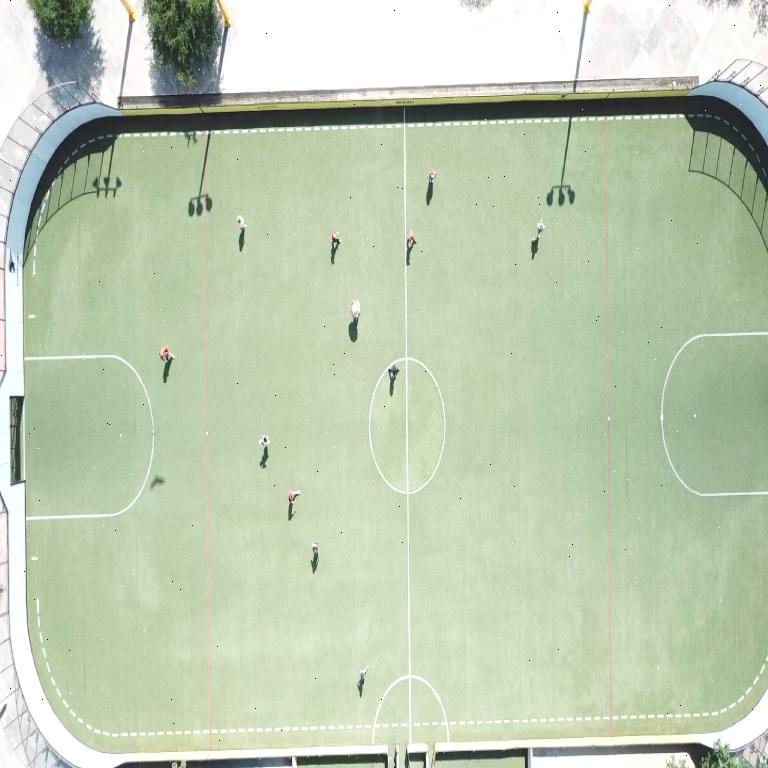AC: (24, 355, 153, 520), (660, 331, 767, 498), (367, 357, 445, 494)
B: (531, 238, 535, 244)
MC: (403, 107, 411, 742)
P: (531, 220, 543, 243), (159, 346, 173, 362), (349, 300, 359, 321), (358, 666, 368, 687), (387, 363, 398, 379), (287, 490, 299, 504), (406, 230, 414, 248), (258, 435, 269, 447), (331, 231, 339, 246), (237, 216, 245, 230), (311, 543, 318, 558), (430, 169, 435, 184)
